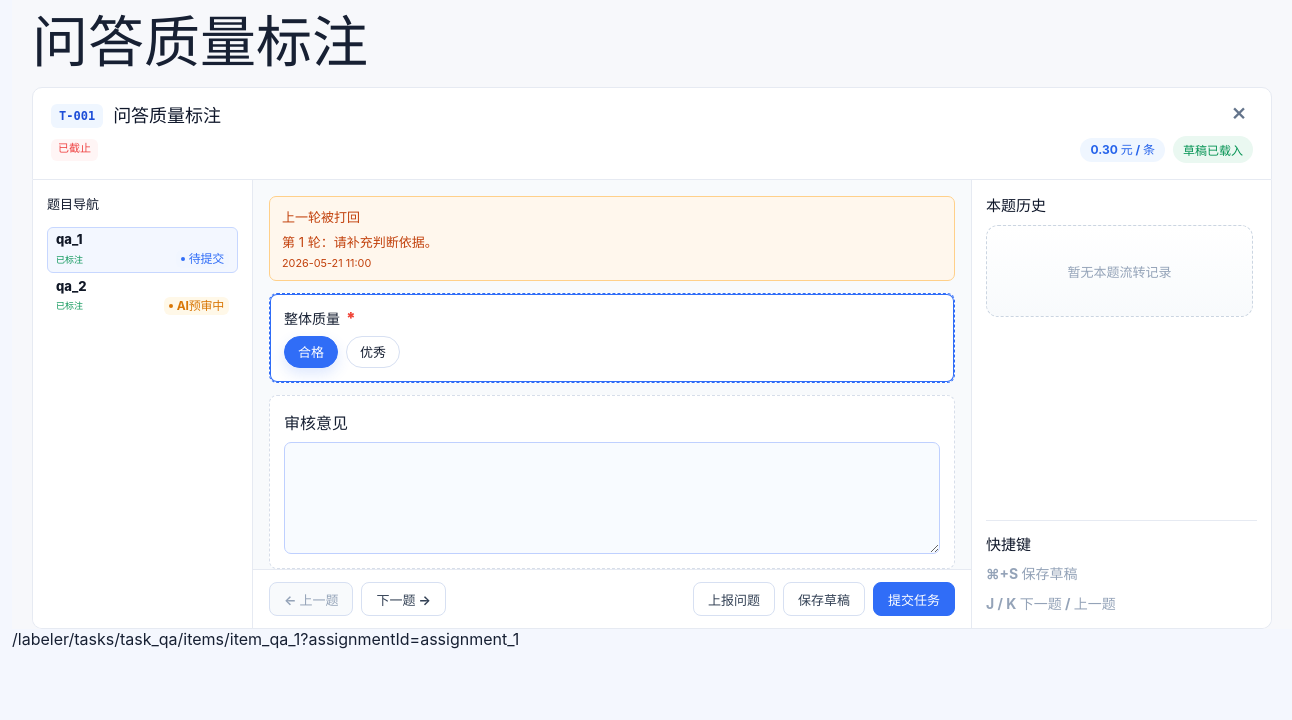
it: WorkbenchPage › 提交任务后当前题目进入只读态，禁止草稿保存
Check: the heading "问答质量标注" is shown, box [32,8,368,76]
Click the button "提交任务" at [914, 599], box [873,582,955,616]
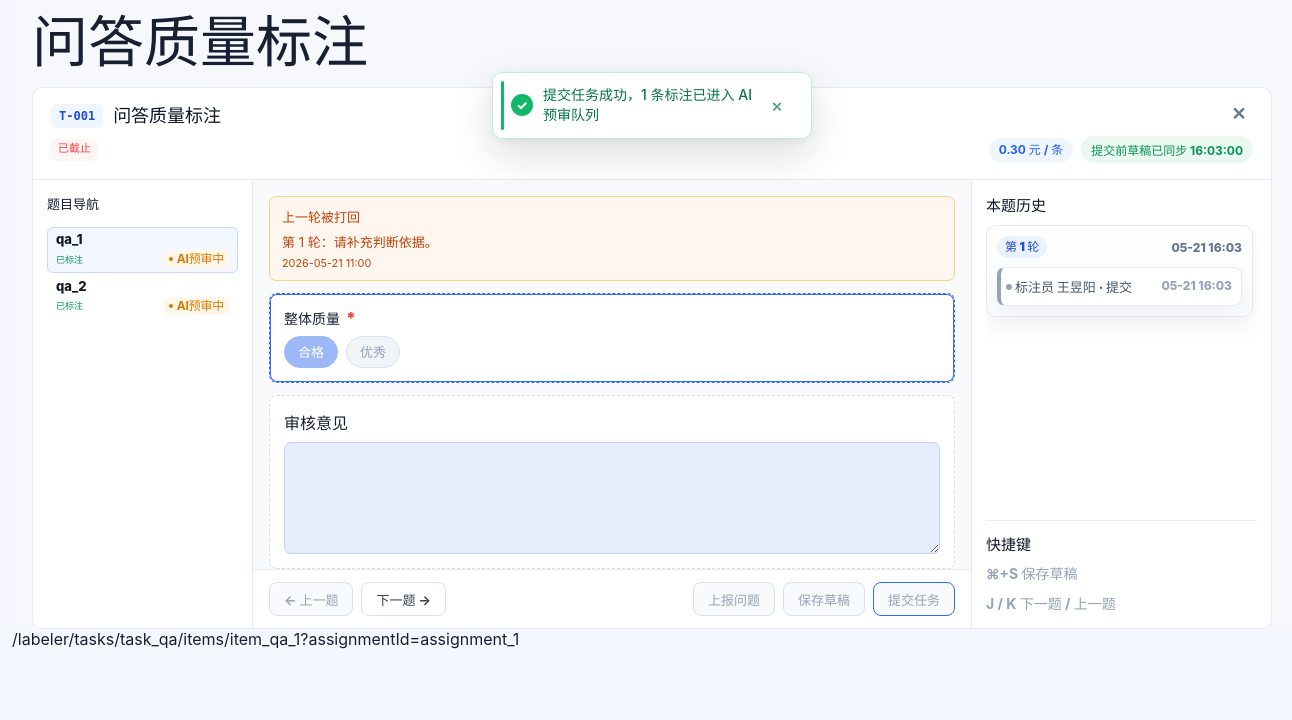
Check: the text "提交任务成功，1 条标注已进入 AI 预审队列" is shown, box [543,85,753,126]
Check: the button "保存草稿" is disabled, box [783,582,865,616]
Check: the radio button labelled "优秀" is disabled, box [346,336,400,368]
